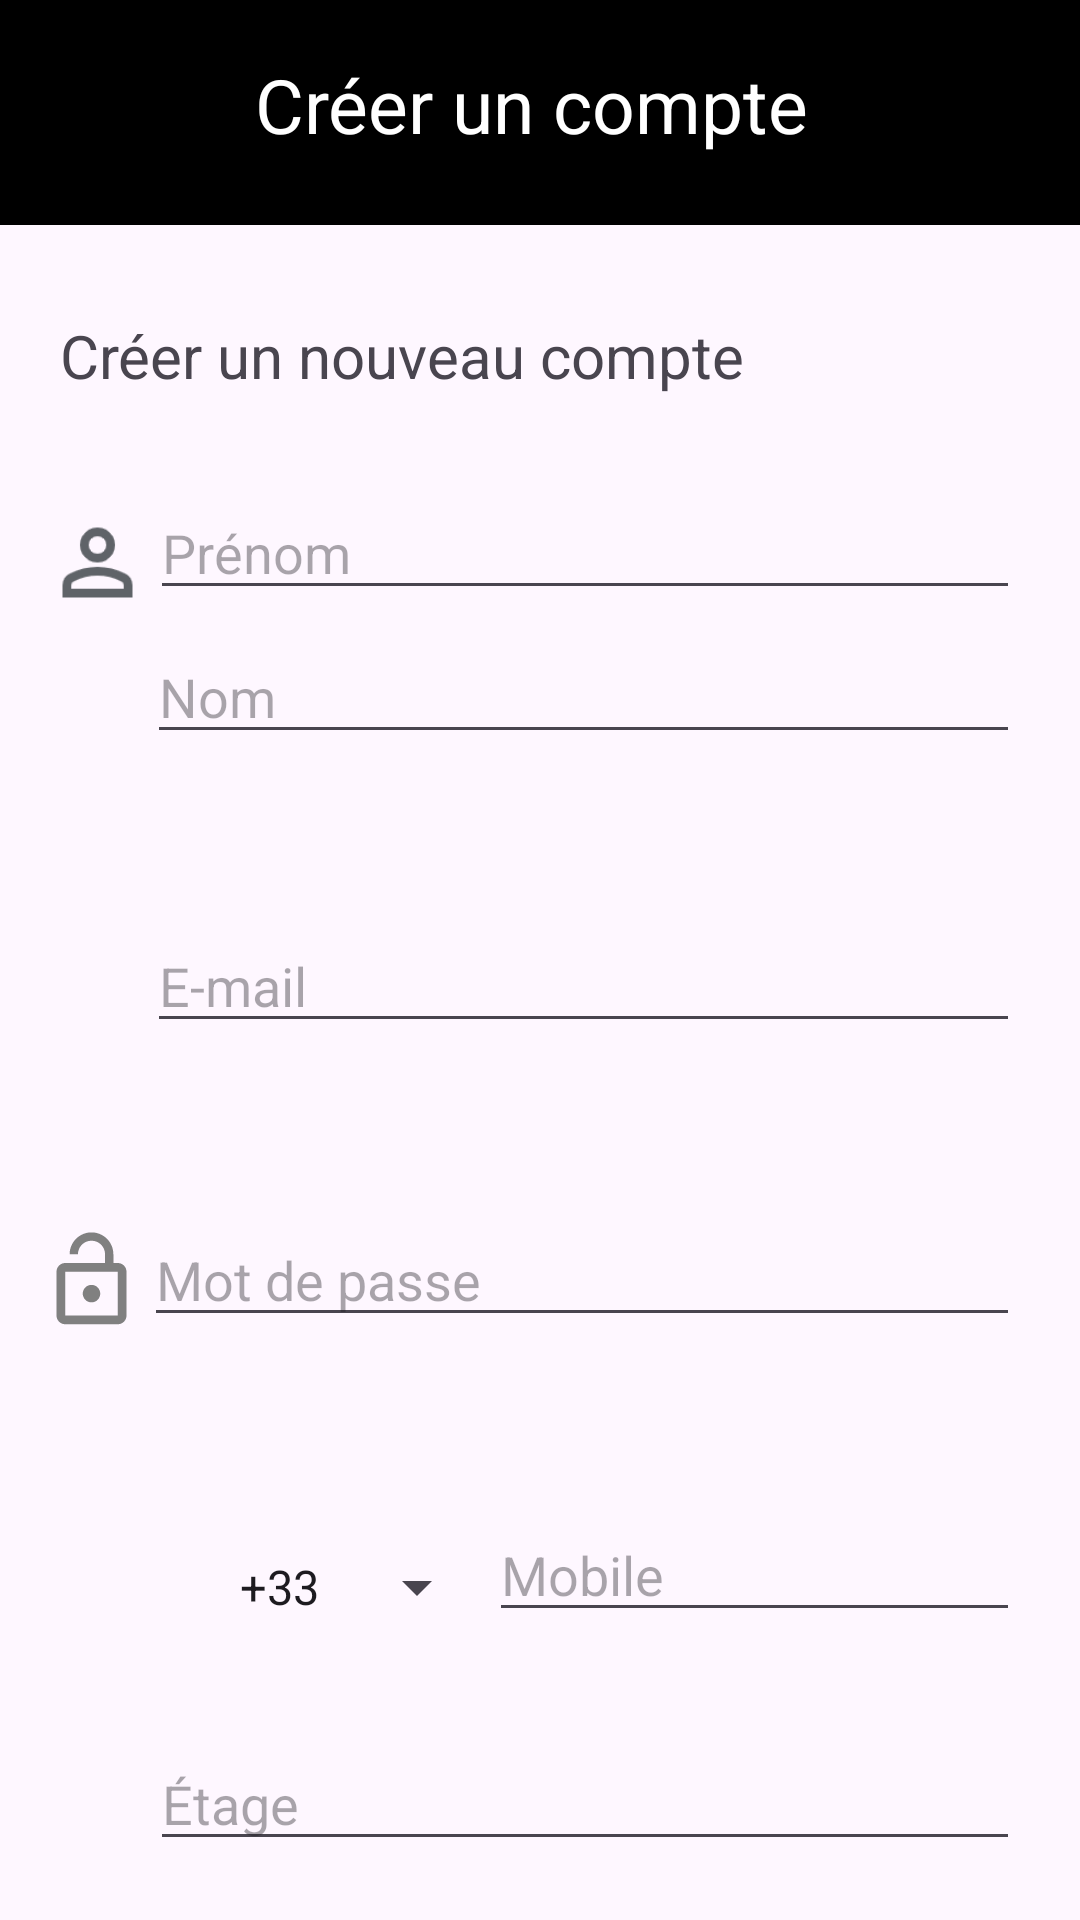

Point at icon controls on the screen. Image size 1080*1920, points as (x,y).
lock open: (91,1278)
person: (97,562)
